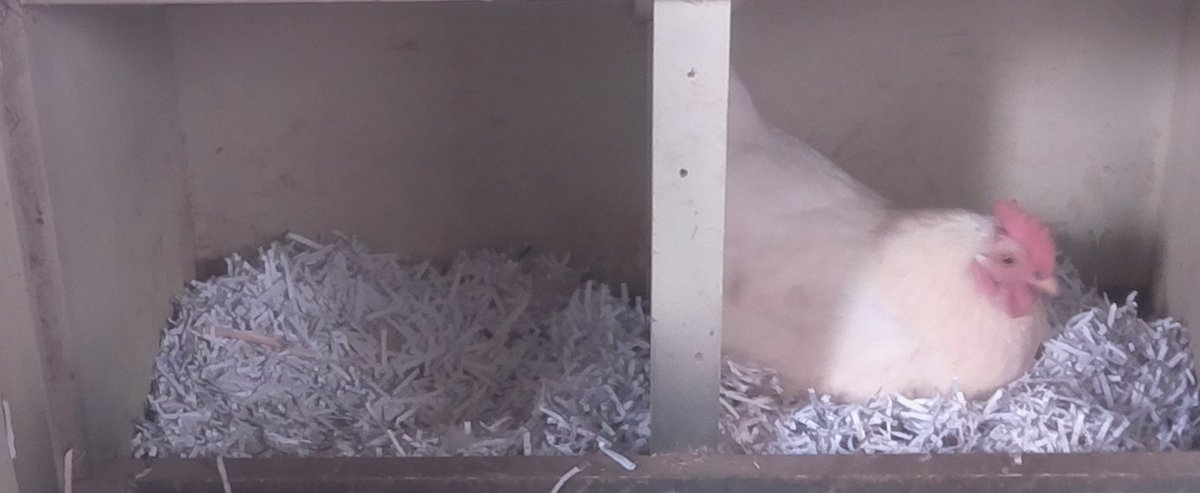hen: (732, 81, 1065, 418)
